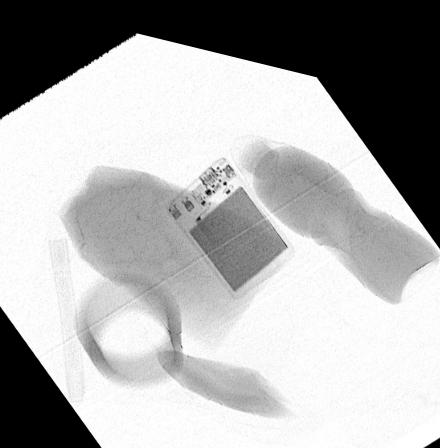Powerbank: (167, 145, 294, 289)
